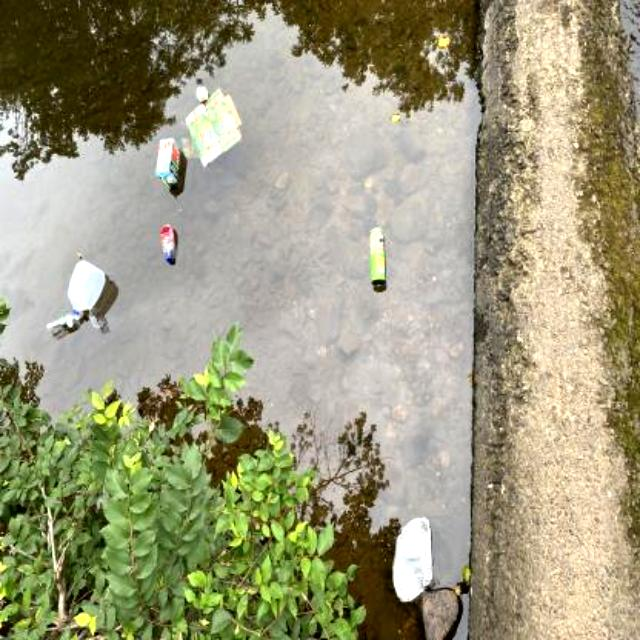Cardboard: (175, 80, 247, 170), (150, 134, 184, 190)
Metal: (382, 508, 440, 610), (364, 222, 396, 292)
Plastic: (46, 256, 112, 334), (155, 213, 185, 267)
